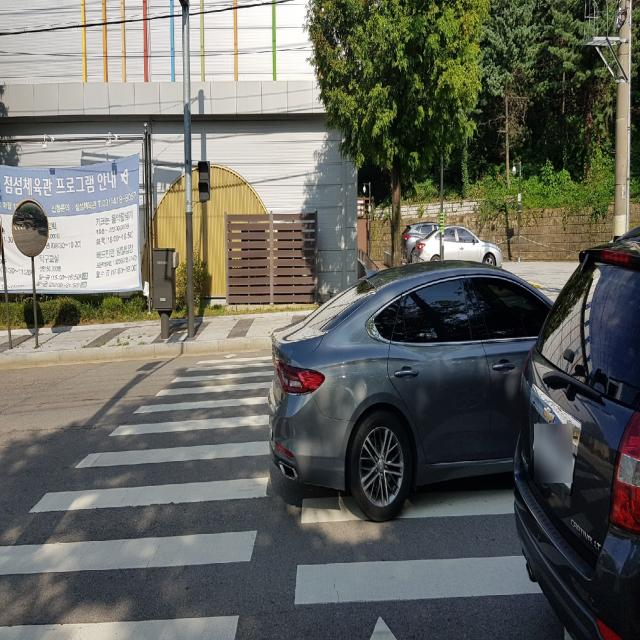횡단보도: (0, 351, 575, 640)
